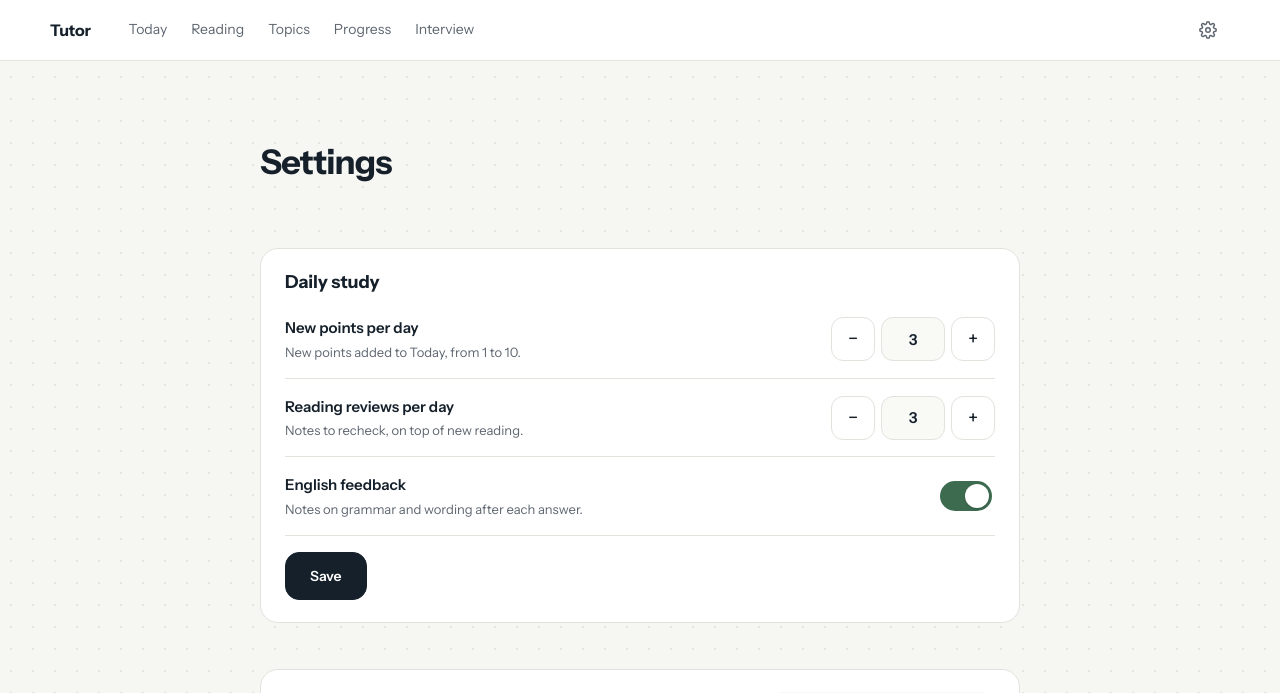
Test case: settings saves new per day
Replace the text in the number field labelled "New points per day" with "5" at {"x": 913, "y": 339}, box [881, 317, 945, 361]
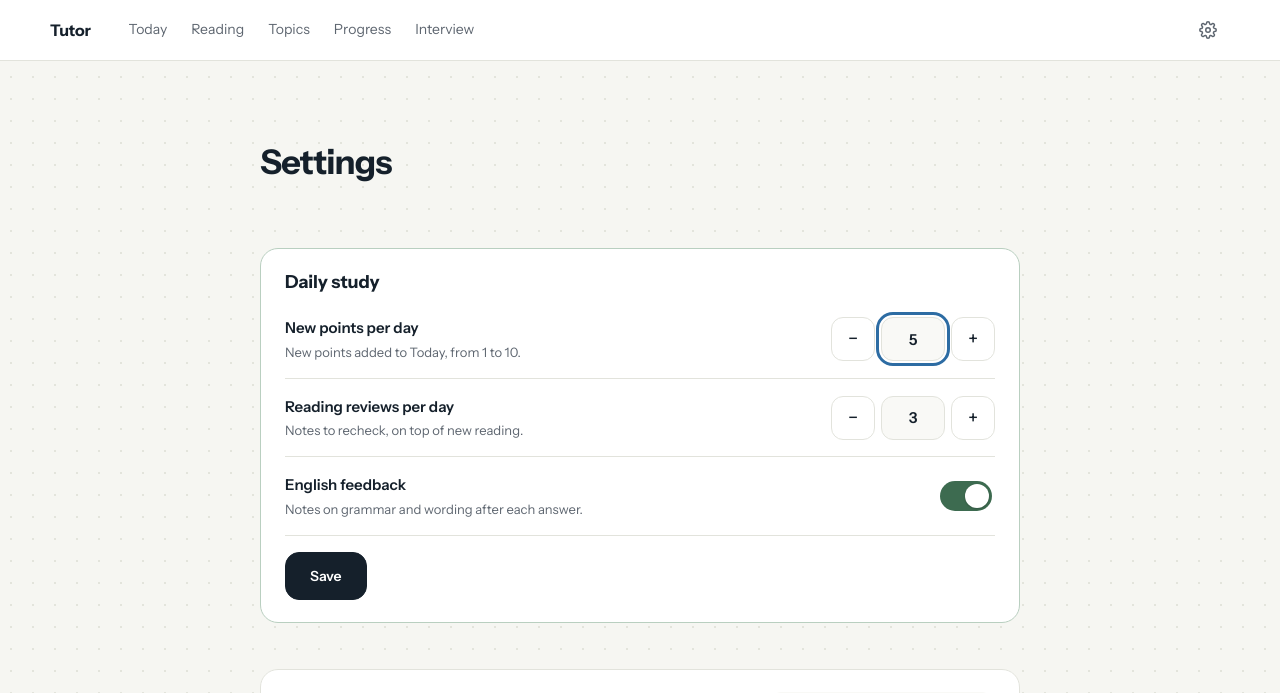
Click the button "Save" at {"x": 326, "y": 576}, box [285, 552, 367, 600]
(page scrolled)
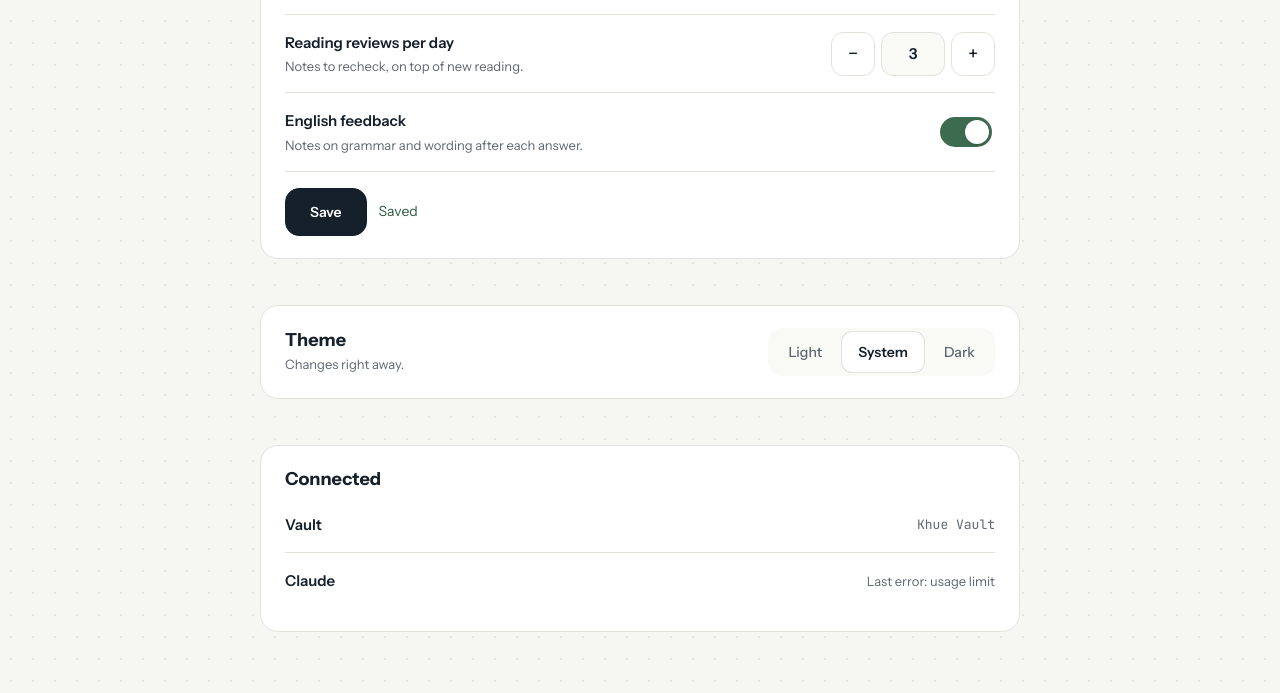
Expected: the text "Last error: usage limit" is shown, [867, 571, 995, 591]
Result: the text "Saved" is shown at [379, 201, 418, 222]
